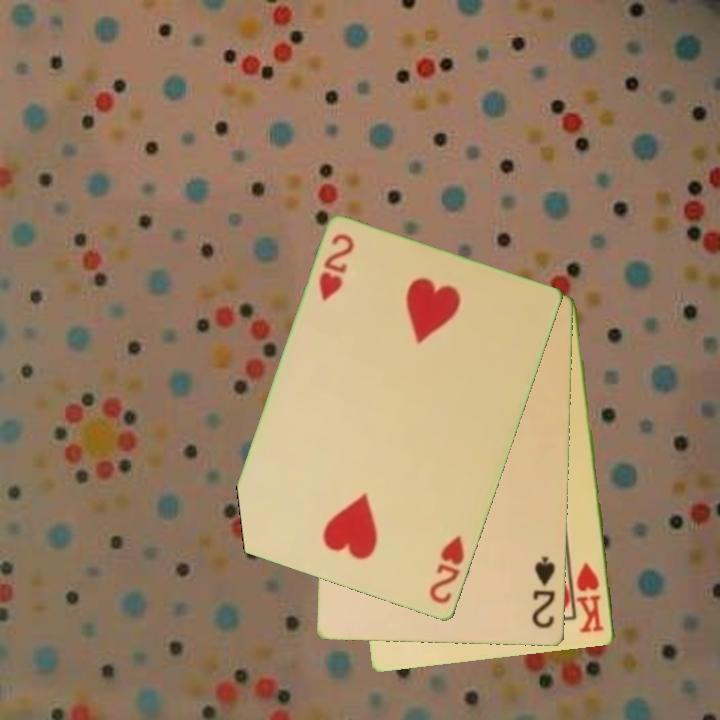2h: (315, 230, 358, 305), (426, 532, 468, 608)
2s: (529, 553, 559, 632)
Kh: (573, 559, 607, 637)
